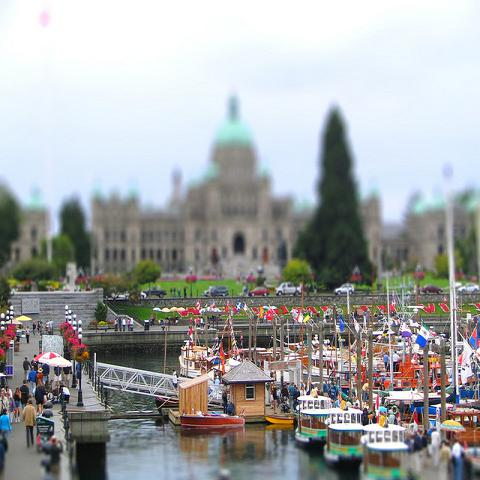car: (204, 286, 230, 297), (333, 283, 355, 295), (248, 286, 270, 296), (422, 284, 444, 294), (458, 282, 480, 292), (211, 287, 218, 296)
truck: (275, 281, 302, 297), (142, 286, 167, 298)
